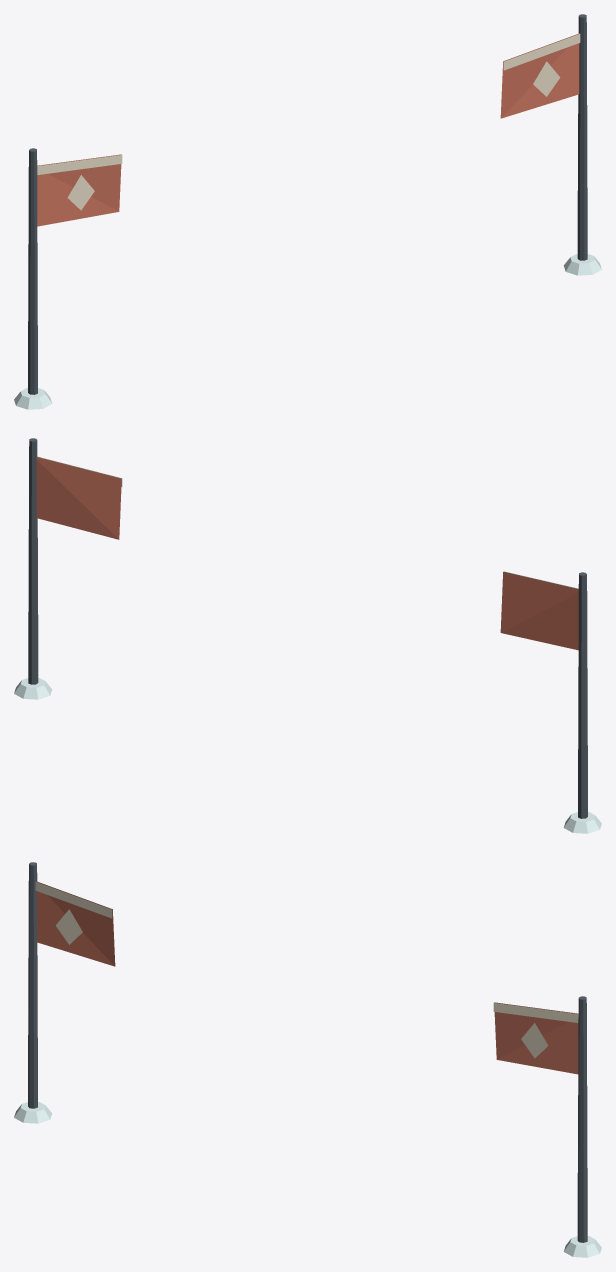
Rendered from gate-coral.glb.
3 views of the same model, one above another, from view 1: azimuth 30°, elevation 25°; view 2: azimuth 150°, elevation 25°; view 3: azimuth 330°, elevation 25° (orthographic).
Parts seen in each view (by area): view 1: gate-coral; view 2: gate-coral; view 3: gate-coral.
Part boxes in pixels (x1,y1,x2,y2): gate-coral: [14, 14, 601, 409]; gate-coral: [14, 438, 601, 833]; gate-coral: [14, 862, 601, 1257].
Bounding box in the file's own units: 6.8 × 2.8 × 0.4.
